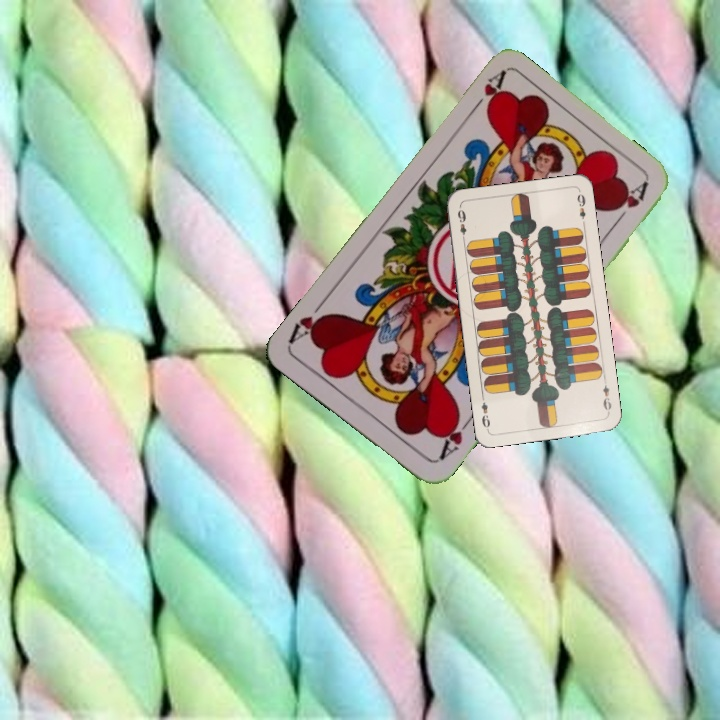E9: (599, 375, 614, 416), (454, 206, 469, 244)
HA: (464, 68, 508, 119), (434, 409, 475, 463)
